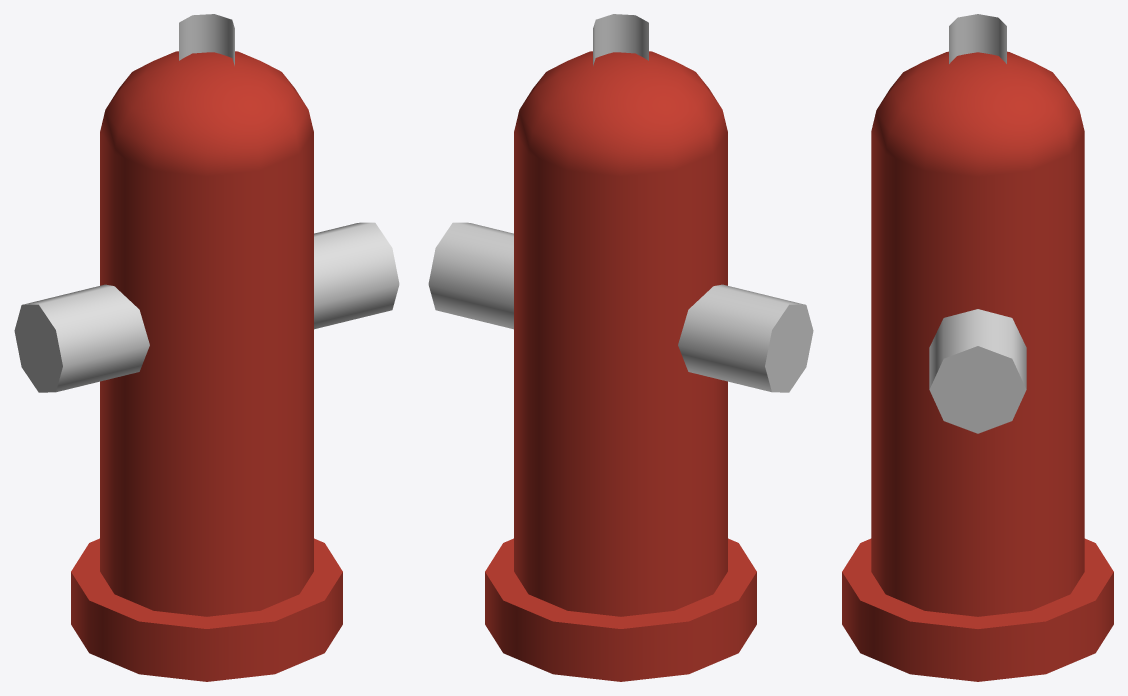
The model's file is fire_hydrant.glb.
3 renders of one model, left to right at view 1: azimuth 30°, elevation 25°; view 2: azimuth 150°, elevation 25°; view 3: azimuth 270°, elevation 25°, orthographic.
Visible parts, largest first — view 1: hydrant; view 2: hydrant; view 3: hydrant.
Part boxes in pixels (x1=…): hydrant: x1=14, y1=14, x2=399, y2=681; hydrant: x1=428, y1=14, x2=813, y2=681; hydrant: x1=842, y1=14, x2=1113, y2=681.
Bounding box in the file's own units: 0.4 × 0.68 × 0.28.
